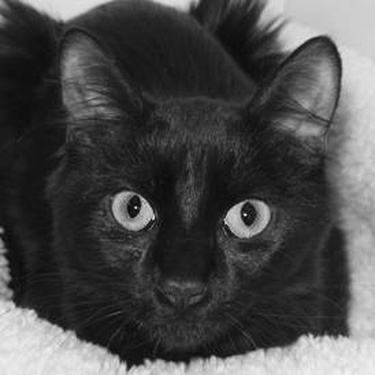cat: (3, 1, 352, 363)
